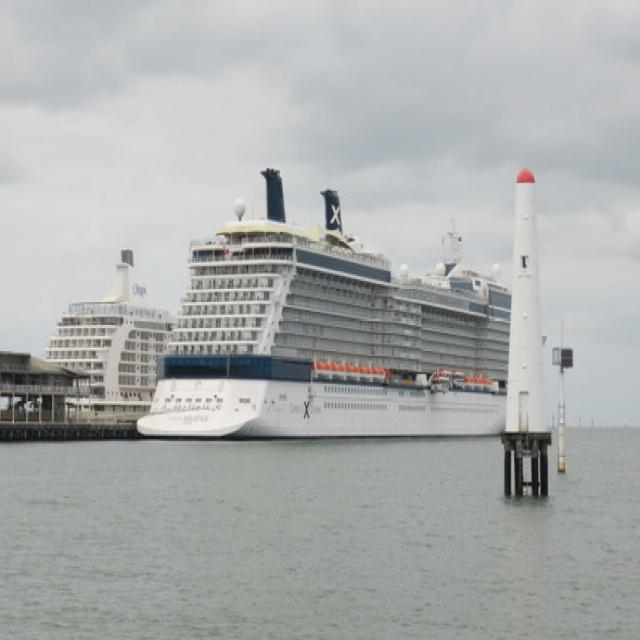passenger ship: (136, 197, 512, 441), (39, 245, 172, 418)
